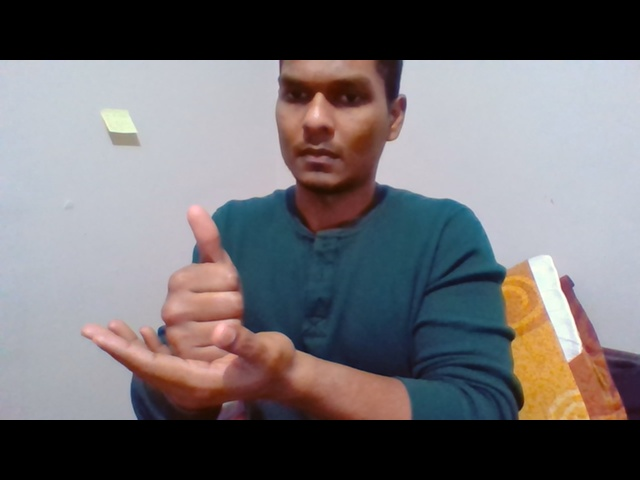Help: (79, 203, 298, 419)
